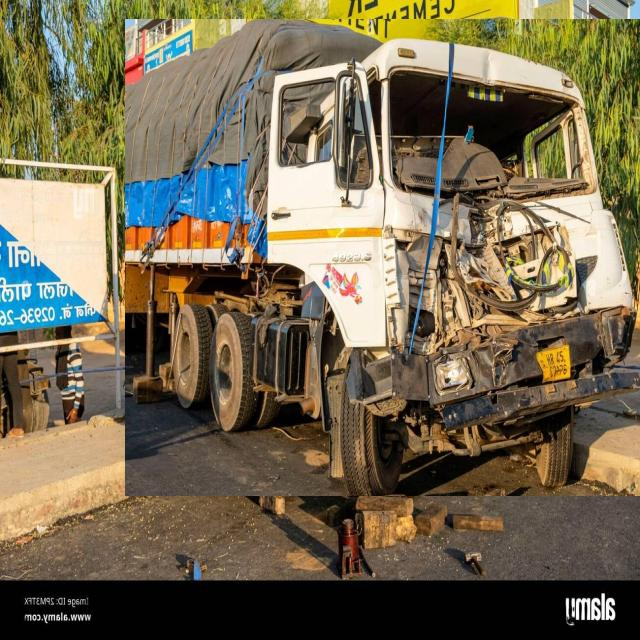accident: (125, 19, 640, 496)
